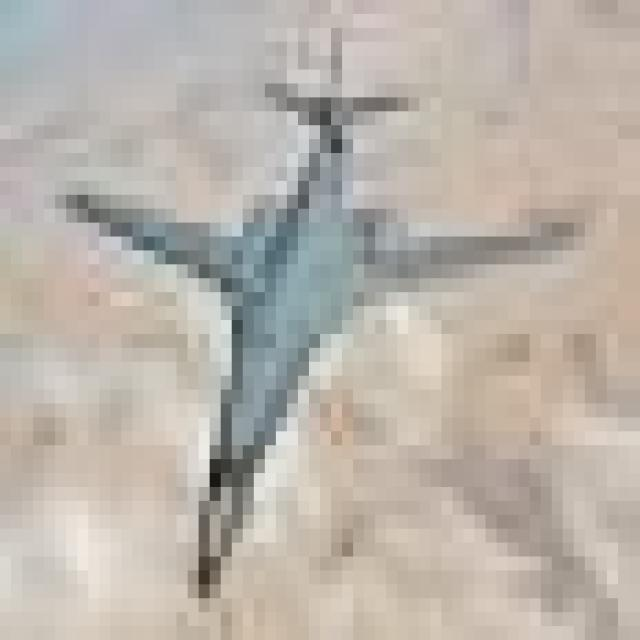B1: (44, 46, 537, 564)
